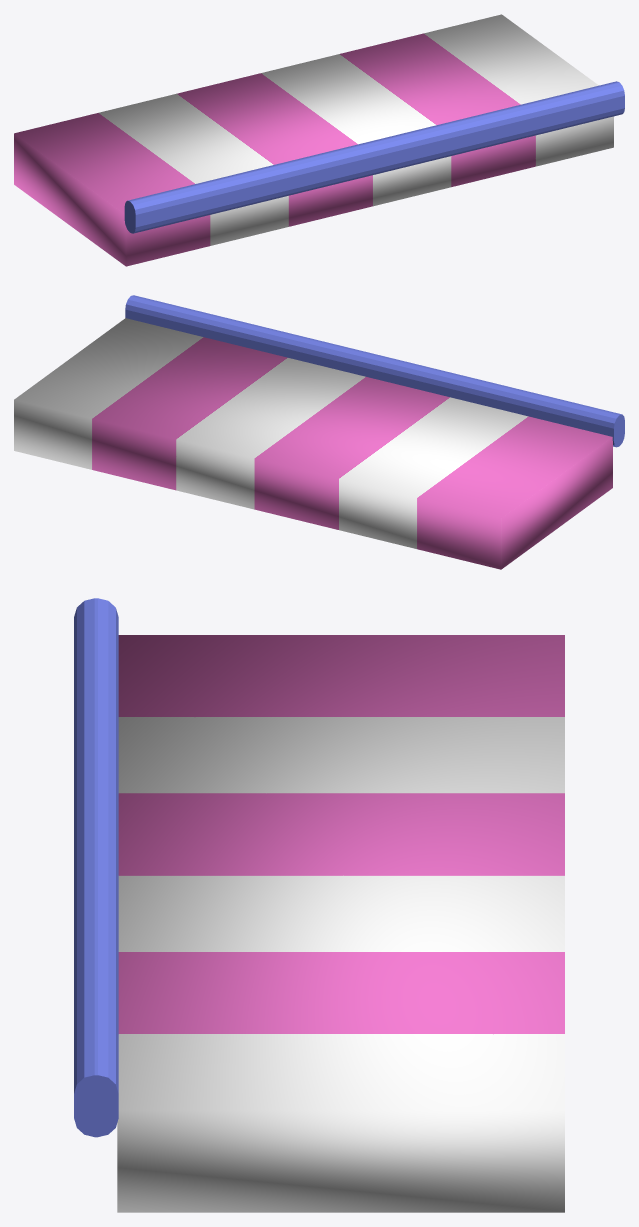
Rendered from platform (3).fbx.
3 views of the same model, one above another, from view 1: azimuth 30°, elevation 25°; view 2: azimuth 150°, elevation 25°; view 3: azimuth 270°, elevation 25° (orthographic). The views are drawn at different scales.
Parts seen in each view (by area): view 1: Cube.002, Cube; view 2: Cube.002, Cube; view 3: Cube.002, Cube.
Boxes of the visible parts, x1=… form: Cube.002: x1=14, y1=14, x2=613, y2=266; Cube: x1=124, y1=81, x2=624, y2=233; Cube.002: x1=14, y1=318, x2=612, y2=569; Cube: x1=125, y1=295, x2=624, y2=447; Cube.002: x1=117, y1=635, x2=564, y2=1212; Cube: x1=74, y1=598, x2=118, y2=1137.
Bounding box in the file's own units: 1000 × 135 × 435.
